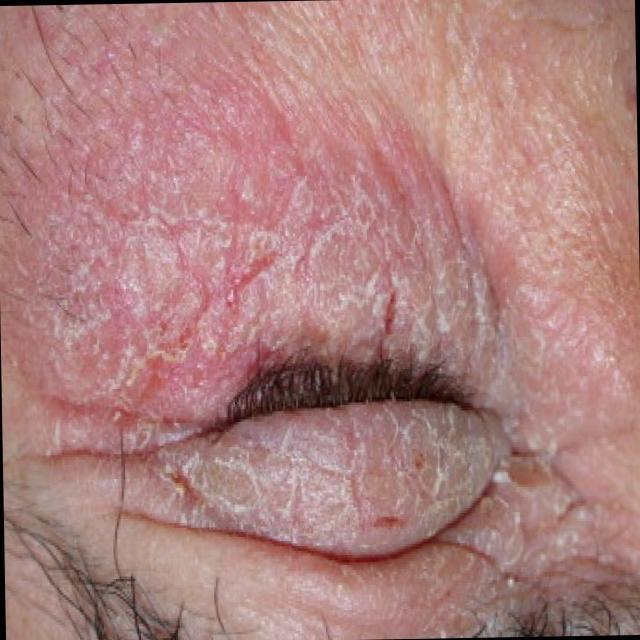Eczema: (39, 26, 580, 596)
